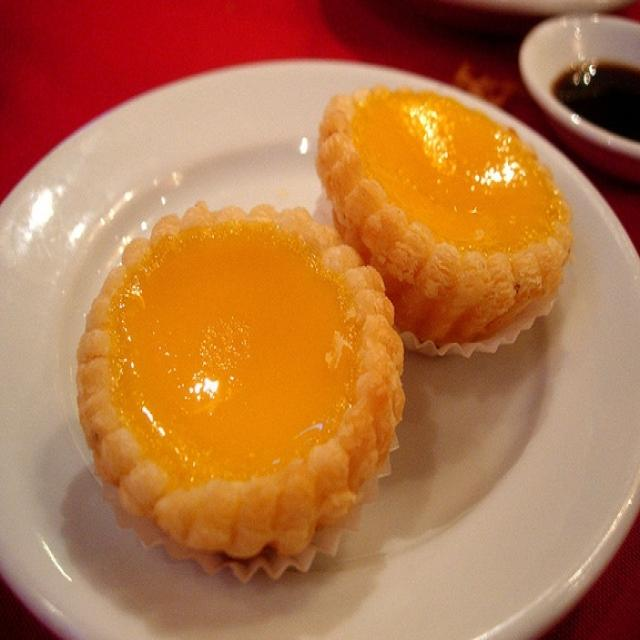炸货点心: (20, 53, 619, 625)
蛋糕甜品: (20, 53, 619, 625)
